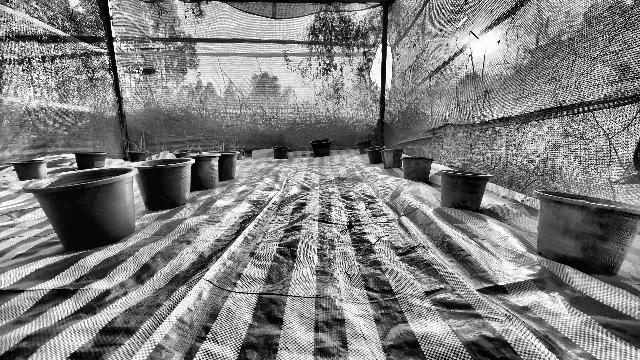pot: (532, 187, 640, 276), (22, 166, 137, 249), (128, 158, 197, 209), (437, 169, 493, 212), (186, 155, 221, 192), (201, 150, 238, 183), (401, 155, 434, 184), (10, 157, 47, 180), (71, 150, 110, 170), (308, 139, 333, 157), (382, 149, 404, 169), (364, 146, 385, 165), (270, 146, 291, 160)
